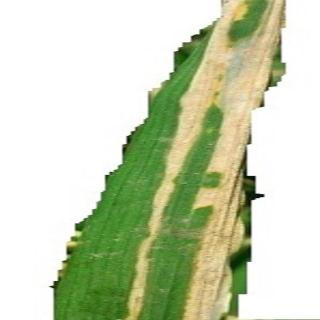Hawar-Daun: (142, 1, 278, 320)
